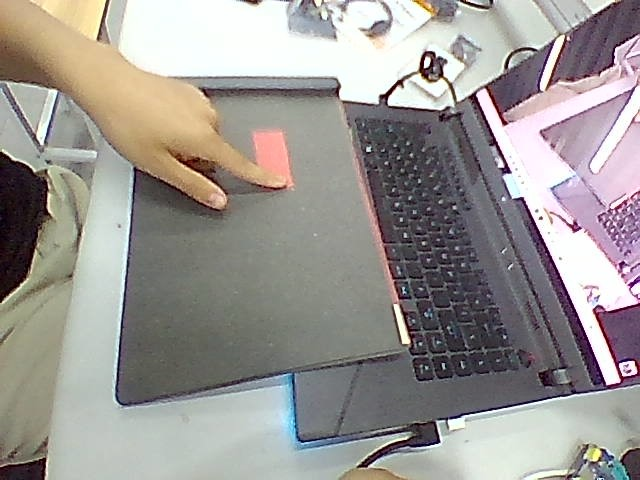card: (253, 130, 293, 187)
